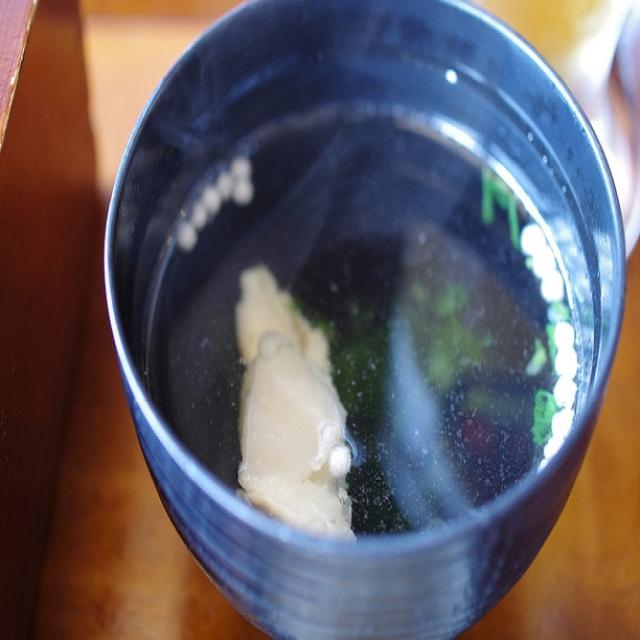汤锅炖物: (80, 12, 630, 602)
